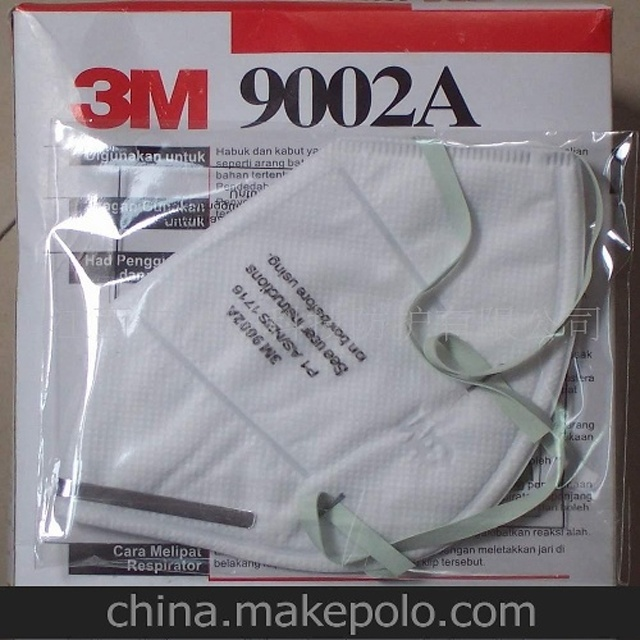mask: (54, 135, 600, 581)
